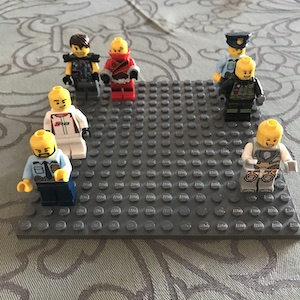Lego: (14, 129, 78, 206), (239, 118, 300, 198), (40, 86, 90, 160), (215, 55, 265, 124), (61, 33, 102, 103), (101, 35, 141, 104), (212, 30, 253, 95)
